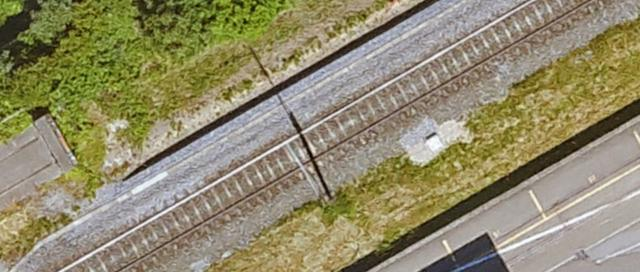tree: (138, 1, 214, 59), (62, 60, 122, 99), (13, 5, 71, 44), (73, 7, 128, 48), (10, 63, 57, 107)
